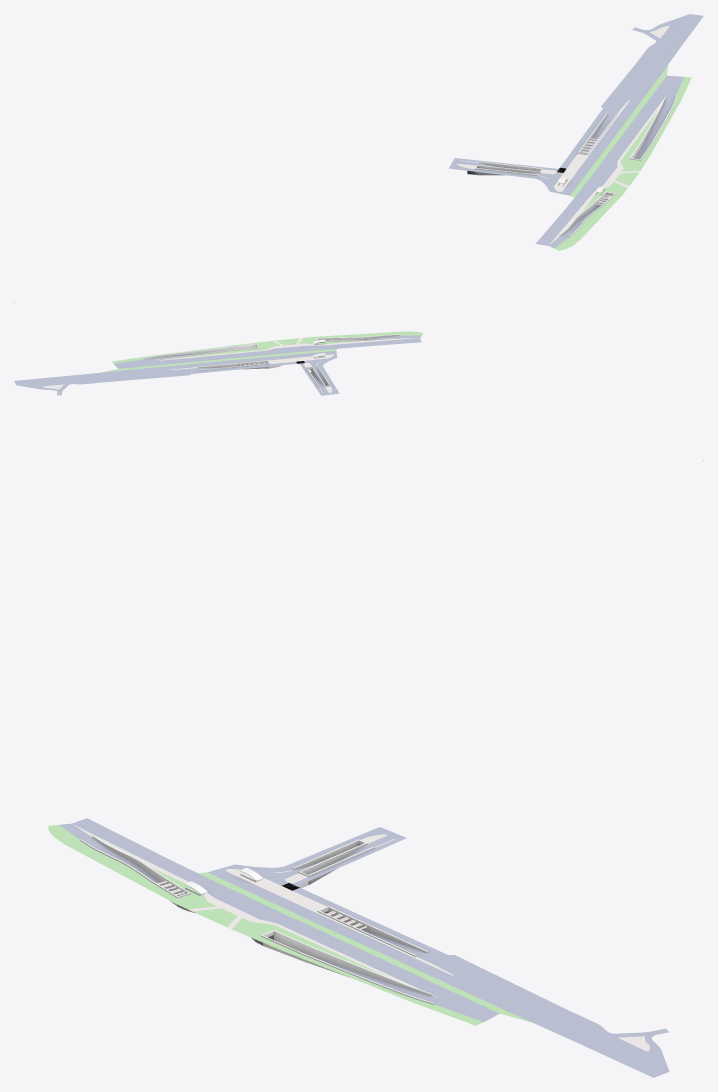
The model's file is esentai.glb.
The picture shows the model from 3 angles, top to bottom: view 1: azimuth 30°, elevation 25°; view 2: azimuth 150°, elevation 25°; view 3: azimuth 270°, elevation 25°; orthographic projection. The views are drawn at different scales.
Visible parts, largest first — view 1: group_16.001, group_3.001, group_1.006, group_14.001, group_14, group_8; view 2: group_16.001, group_3.001, group_1.006, group_14.001, group_8, group_14; view 3: group_16.001, group_3.001, group_1.006, group_14, group_14.001, group_8.
Boxes of the visible parts, box(x1,y1,x2,y2) form: group_16.001: box(449, 14, 703, 248); group_3.001: box(467, 94, 677, 237); group_1.006: box(457, 26, 669, 245); group_14.001: box(620, 77, 691, 171); group_14: box(554, 182, 627, 250); group_8: box(570, 65, 668, 197); group_16.001: box(14, 335, 421, 395); group_3.001: box(143, 334, 400, 387); group_1.006: box(42, 338, 418, 393); group_14.001: box(112, 341, 279, 363); group_8: box(102, 348, 337, 372); group_14: box(299, 331, 423, 344); group_16.001: box(59, 818, 669, 1077); group_3.001: box(80, 835, 434, 1004); group_1.006: box(73, 824, 649, 1051); group_14: box(48, 825, 216, 909); group_14.001: box(231, 918, 483, 1025); group_8: box(198, 872, 531, 1022).
Size of the model in its own units: 953 by 11 by 427.
Materials: 14 (3 with a texture image).
